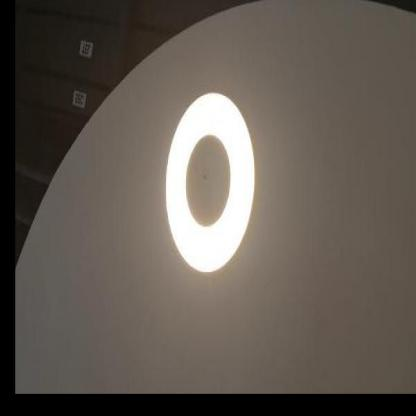light_on: (146, 74, 269, 286)
